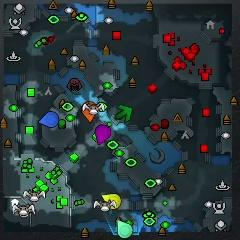p1: (38, 112, 60, 126)
p2: (118, 220, 132, 238)
p3: (97, 126, 110, 144)
p4: (101, 193, 122, 210)
p5: (82, 102, 95, 121)
x4: (115, 105, 132, 122)
